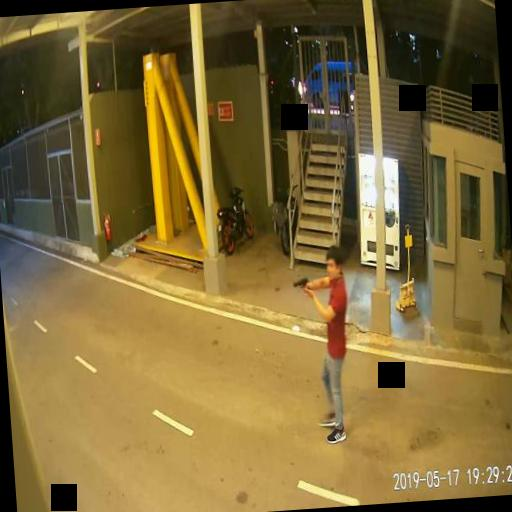Handgun: (292, 276, 310, 296)
